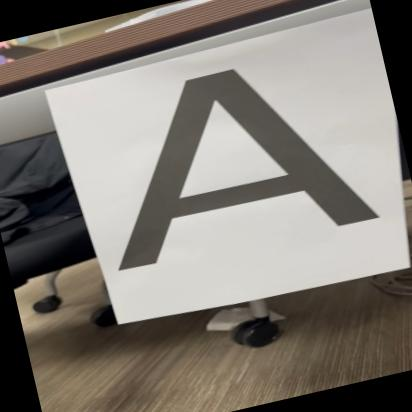seat: (79, 35, 381, 285)
